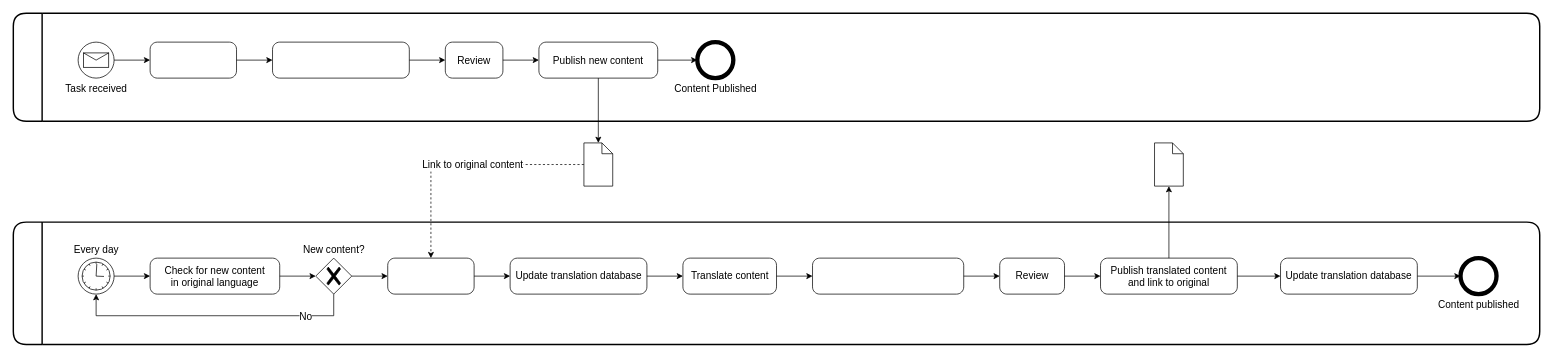
Some shapes in this 1552 by 357 pixel diagram are drawn without their labels. The shapes that lost their labels are listed below. From the top down, each one's box as (x1, y1, x2, y2) in pixels, then its label:
(149, 41, 237, 78): Create content
(272, 41, 409, 78): Create graphics and format
(12, 12, 1540, 122): Original Language
(387, 257, 474, 294): Raise Jira issue
(12, 221, 1540, 345): Target Language
(812, 257, 964, 294): Translate graphics and format
